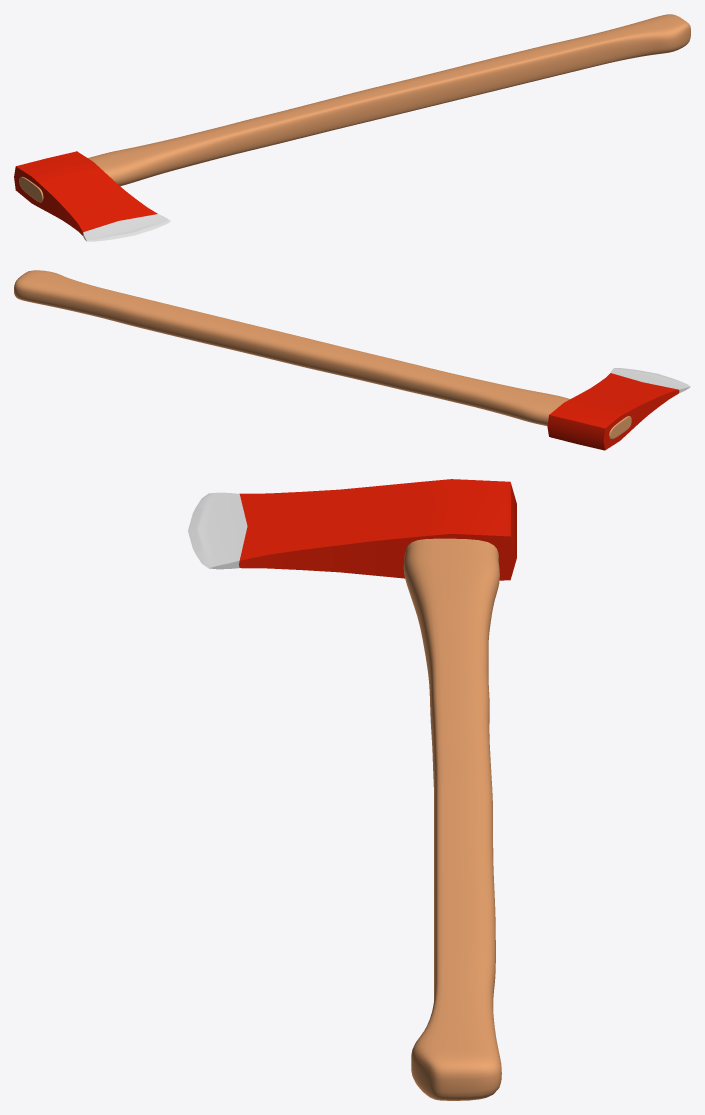
Rendered from axeExport-6.fbx.
3 views of the same model, one above another, from view 1: azimuth 30°, elevation 25°; view 2: azimuth 150°, elevation 25°; view 3: azimuth 270°, elevation 25° (orthographic). The views are drawn at different scales.
Parts seen in each view (by area): view 1: Handle.005; view 2: Handle.005; view 3: Handle.005.
Boxes of the visible parts, left/top/right/bottom form: Handle.005: left=14, top=14, right=690, bottom=241; Handle.005: left=14, top=270, right=690, bottom=450; Handle.005: left=188, top=479, right=516, bottom=1100.
Bounding box in the file's own units: 2084 × 82.15 × 488.
